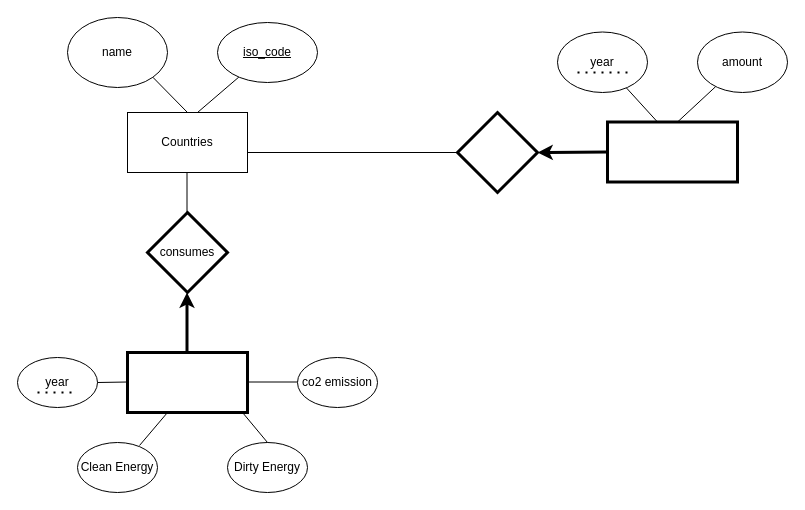
Some shapes in this 805 by 510 pixel diagram are drawn without their labels. Each missing label, with the centre of its shape:
"Energy" belongs at [187,382].
"have" belongs at [497,152].
"Population" belongs at [672,151].
